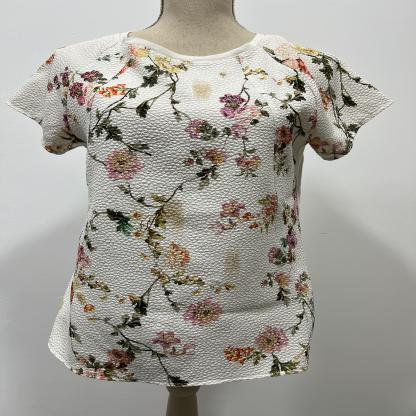stain: (154, 197, 189, 233), (221, 247, 248, 279), (189, 82, 216, 103), (216, 70, 230, 78)
